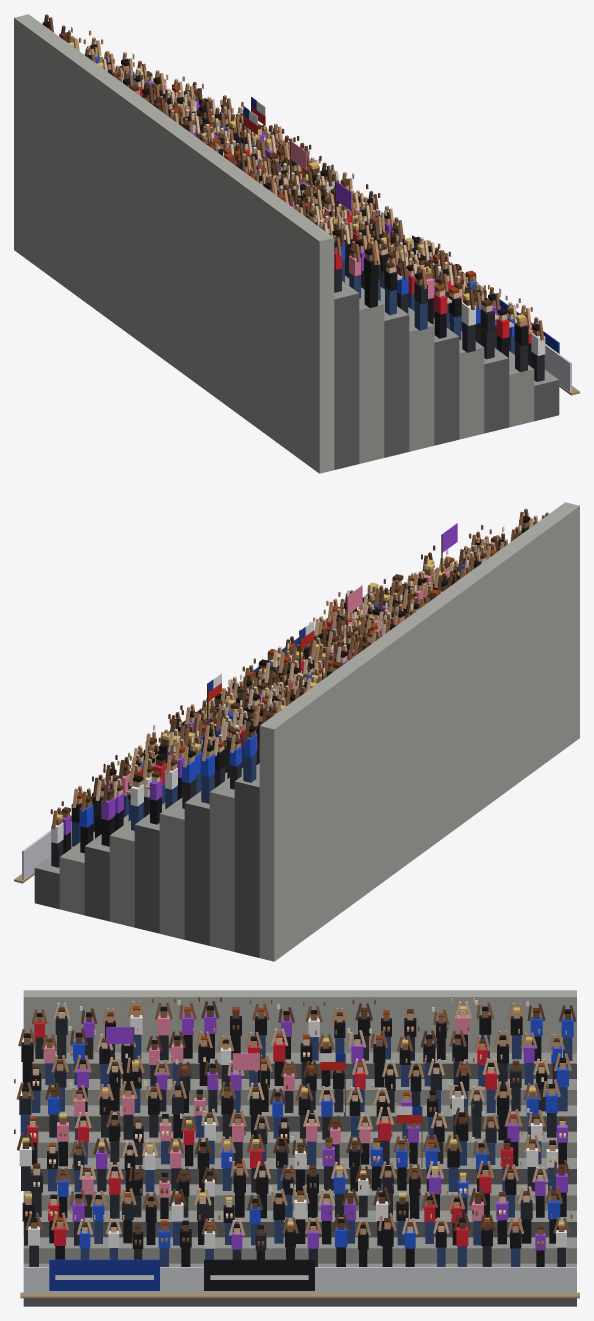
The model's file is hinchada_estadio_1.obj.
3 renders of one model, top to bottom at view 1: azimuth 30°, elevation 25°; view 2: azimuth 150°, elevation 25°; view 3: azimuth 270°, elevation 25°, orthographic. The views are drawn at different scales.
Visible parts, largest first — view 1: hinchada_estadio_1; view 2: hinchada_estadio_1; view 3: hinchada_estadio_1.
Part boxes in pixels (x1,y1,x2,y2): hinchada_estadio_1: [14, 14, 579, 473]; hinchada_estadio_1: [14, 502, 579, 961]; hinchada_estadio_1: [14, 990, 579, 1306].
Size of the model in its own units: 8.8 by 7.69 by 18.41.
